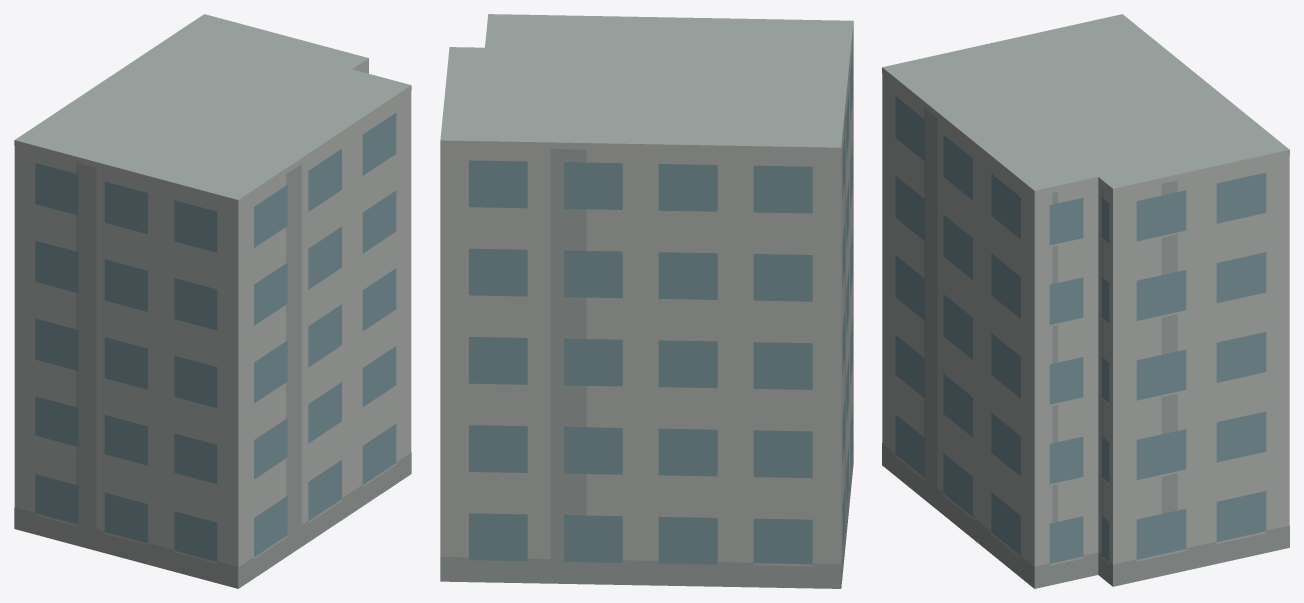
File: survey-upis-33004387.glb
3 views of the same model, side by side, from view 1: azimuth 30°, elevation 25°; view 2: azimuth 150°, elevation 25°; view 3: azimuth 270°, elevation 25° (orthographic). The views are drawn at different scales.
Visible parts, largest first — view 1: survey-upis-33004387.tmp; view 2: survey-upis-33004387.tmp; view 3: survey-upis-33004387.tmp.
Boxes of the visible parts, bbox=[...] form: survey-upis-33004387.tmp: bbox=[14, 14, 411, 588]; survey-upis-33004387.tmp: bbox=[440, 14, 853, 588]; survey-upis-33004387.tmp: bbox=[882, 14, 1289, 588].
Bounding box in the file's own units: 15.45 × 16.2 × 15.05.
